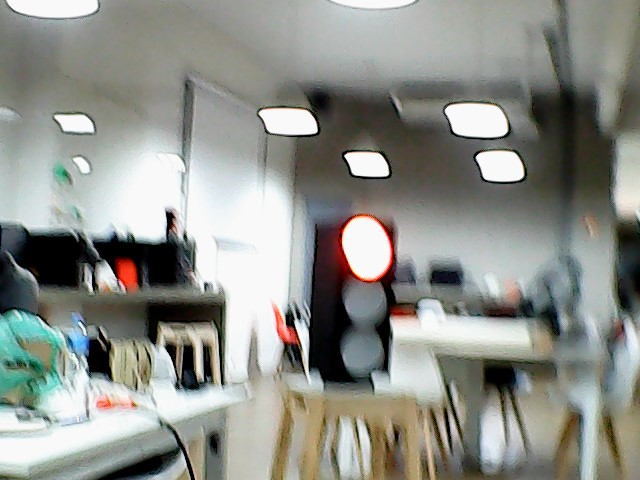vermelho: (303, 216, 397, 381)
